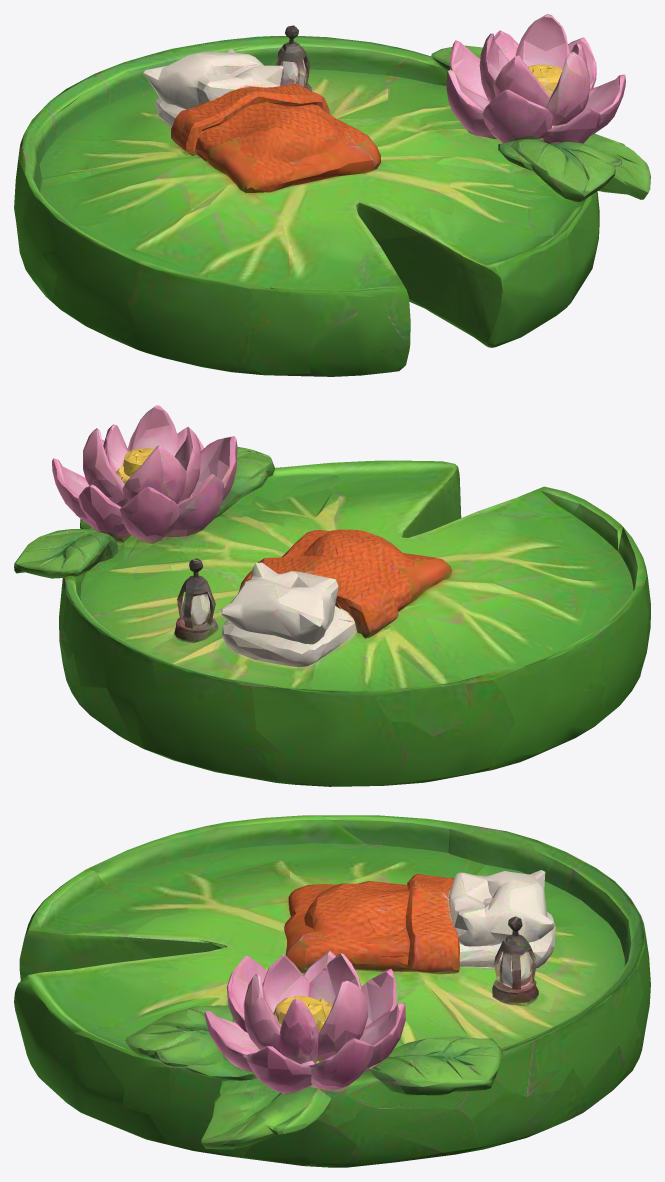
Rendered from lilypad.glb.
3 views of the same model, one above another, from view 1: azimuth 30°, elevation 25°; view 2: azimuth 150°, elevation 25°; view 3: azimuth 270°, elevation 25° (orthographic). The views are drawn at different scales.
Size of the model in its own units: 1.9 by 0.5897 by 1.81.
Materials: 1 (1 with a texture image).
